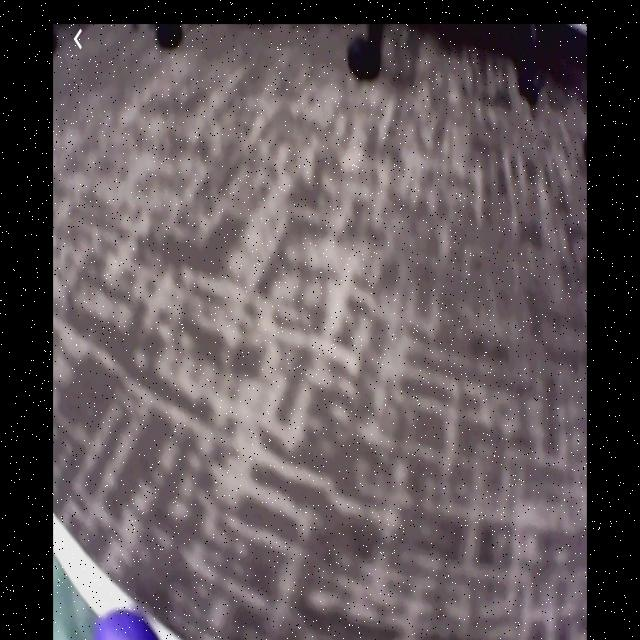ball: (94, 609, 159, 640)
